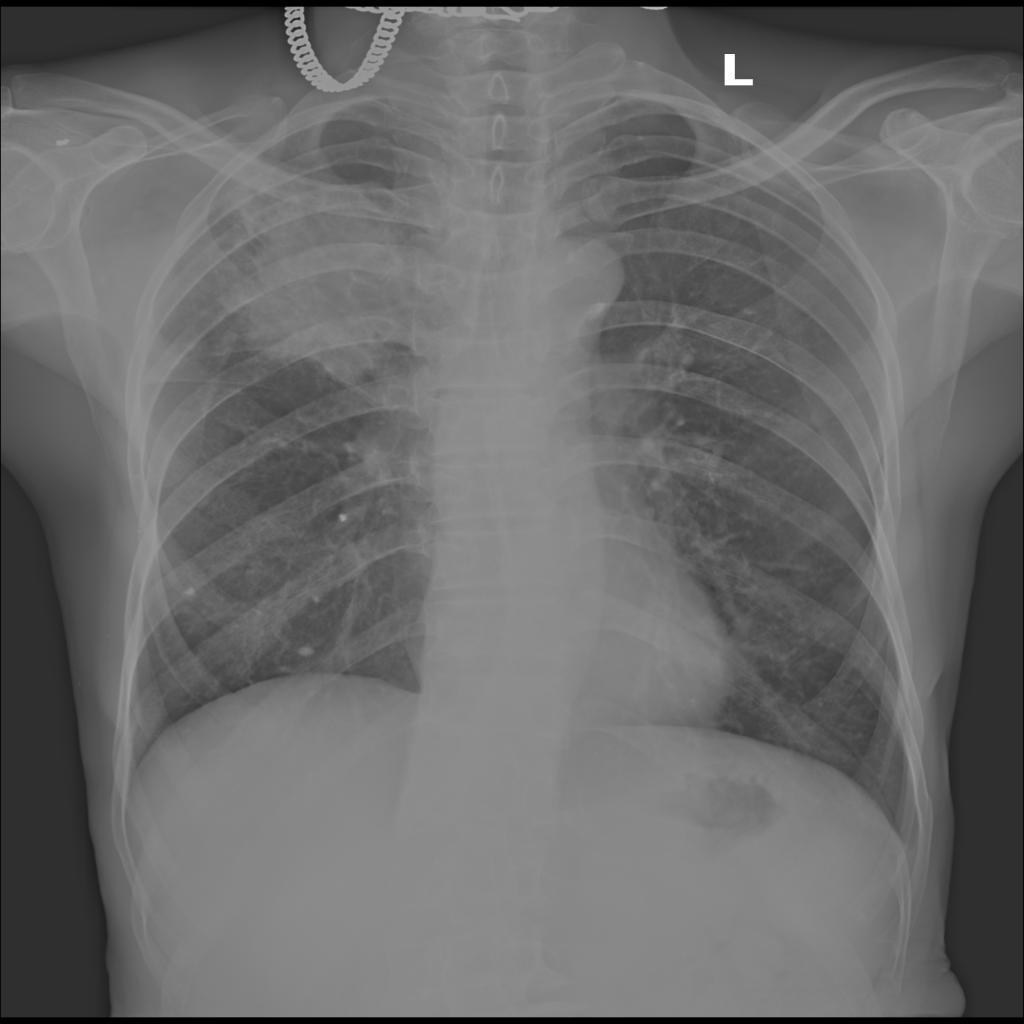Nodule: (234, 178, 408, 357)
